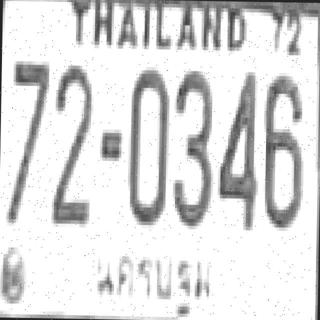N00: (124, 66, 168, 222)
N02: (50, 62, 93, 206), (49, 81, 92, 222), (49, 95, 91, 222)
N03: (170, 67, 212, 226)
N04: (215, 68, 258, 227)
N06: (260, 72, 303, 228)
N07: (2, 59, 48, 222), (7, 57, 48, 220)
P28: (86, 238, 217, 320)
